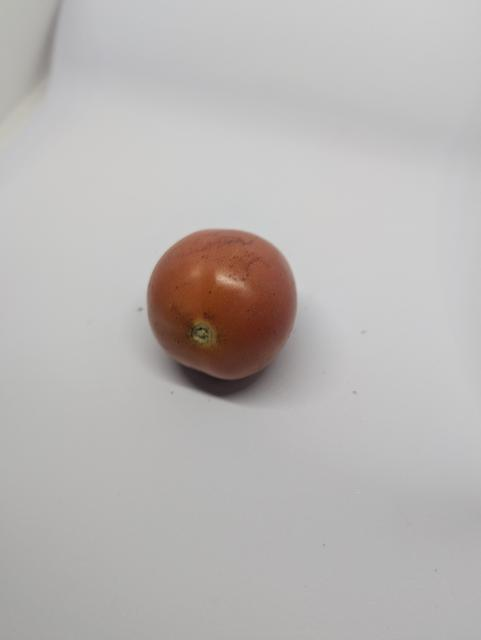red: (142, 222, 307, 395)
